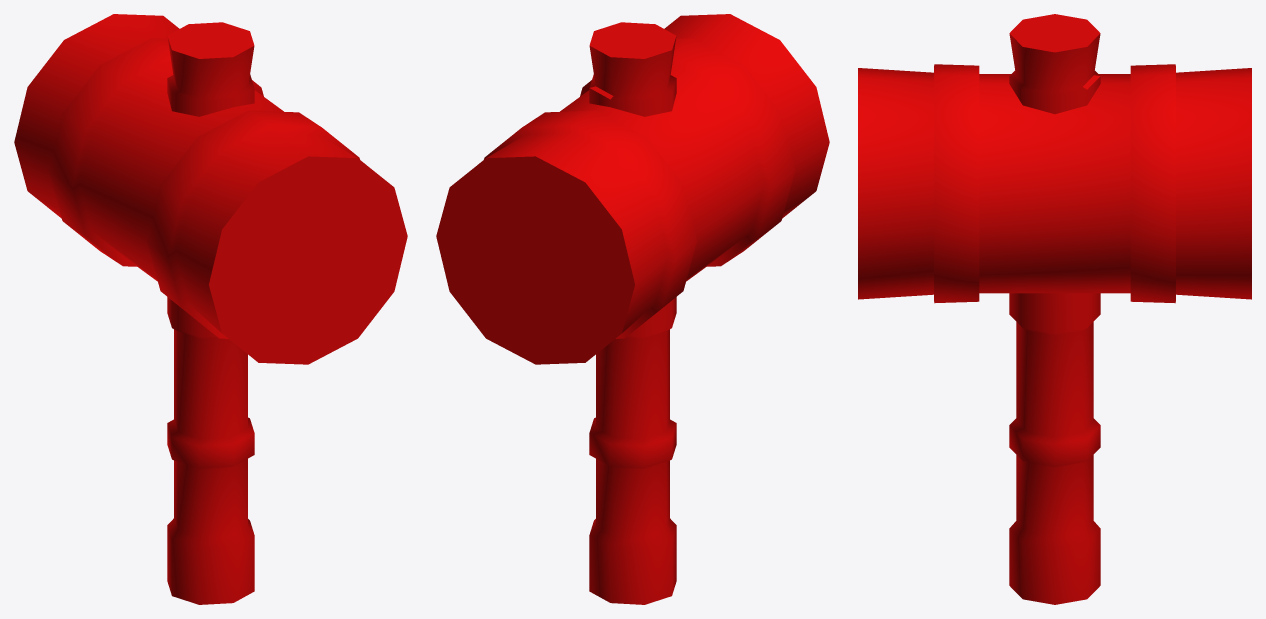
The model's file is uploads_files_2495006_hamer.fbx.
3 renders of one model, left to right at view 1: azimuth 30°, elevation 25°; view 2: azimuth 150°, elevation 25°; view 3: azimuth 270°, elevation 25°, orthographic.
Parts seen in each view (by area): view 1: all:low_polyhamer; view 2: all:low_polyhamer; view 3: all:low_polyhamer.
Part boxes in pixels (bbox=[...]): all:low_polyhamer: bbox=[14, 14, 407, 604]; all:low_polyhamer: bbox=[436, 14, 829, 604]; all:low_polyhamer: bbox=[858, 14, 1251, 604].
Bounding box in the file's own units: 1.94 × 4.93 × 3.18.
